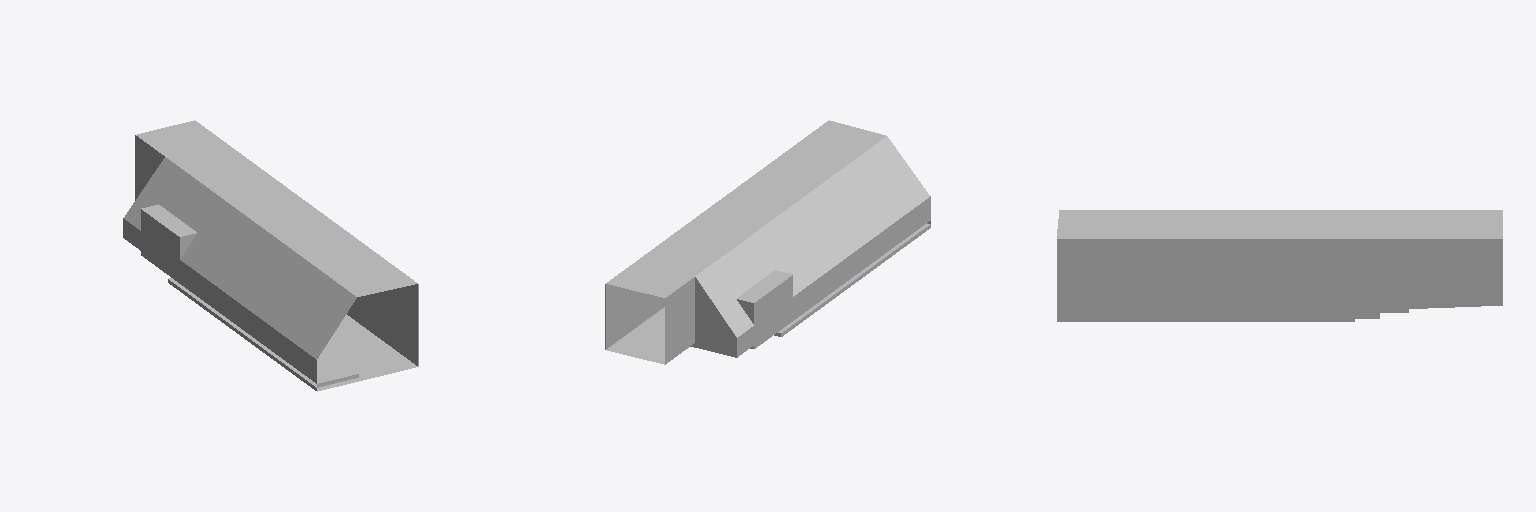
File: Roline1.obj
3 renders of one model, left to right at view 1: azimuth 30°, elevation 25°; view 2: azimuth 150°, elevation 25°; view 3: azimuth 270°, elevation 25°, orthographic.
Parts seen in each view (by area): view 1: Mesh1 Model; view 2: Mesh1 Model; view 3: Mesh1 Model.
Boxes of the visible parts, <box> form: Mesh1 Model: <box>123,120,418,391</box>; Mesh1 Model: <box>605,120,930,364</box>; Mesh1 Model: <box>1057,210,1502,321</box>.
Bounding box in the file's own units: 542 × 425 × 2066.